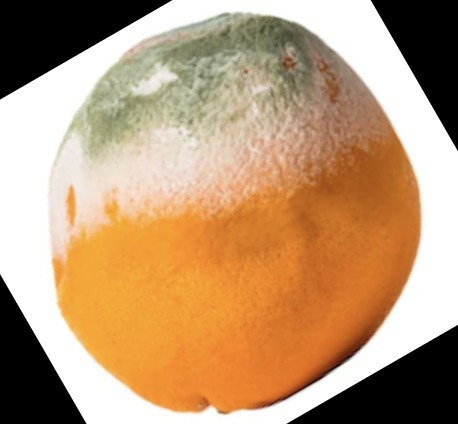rotten_orange: (51, 15, 423, 414)
